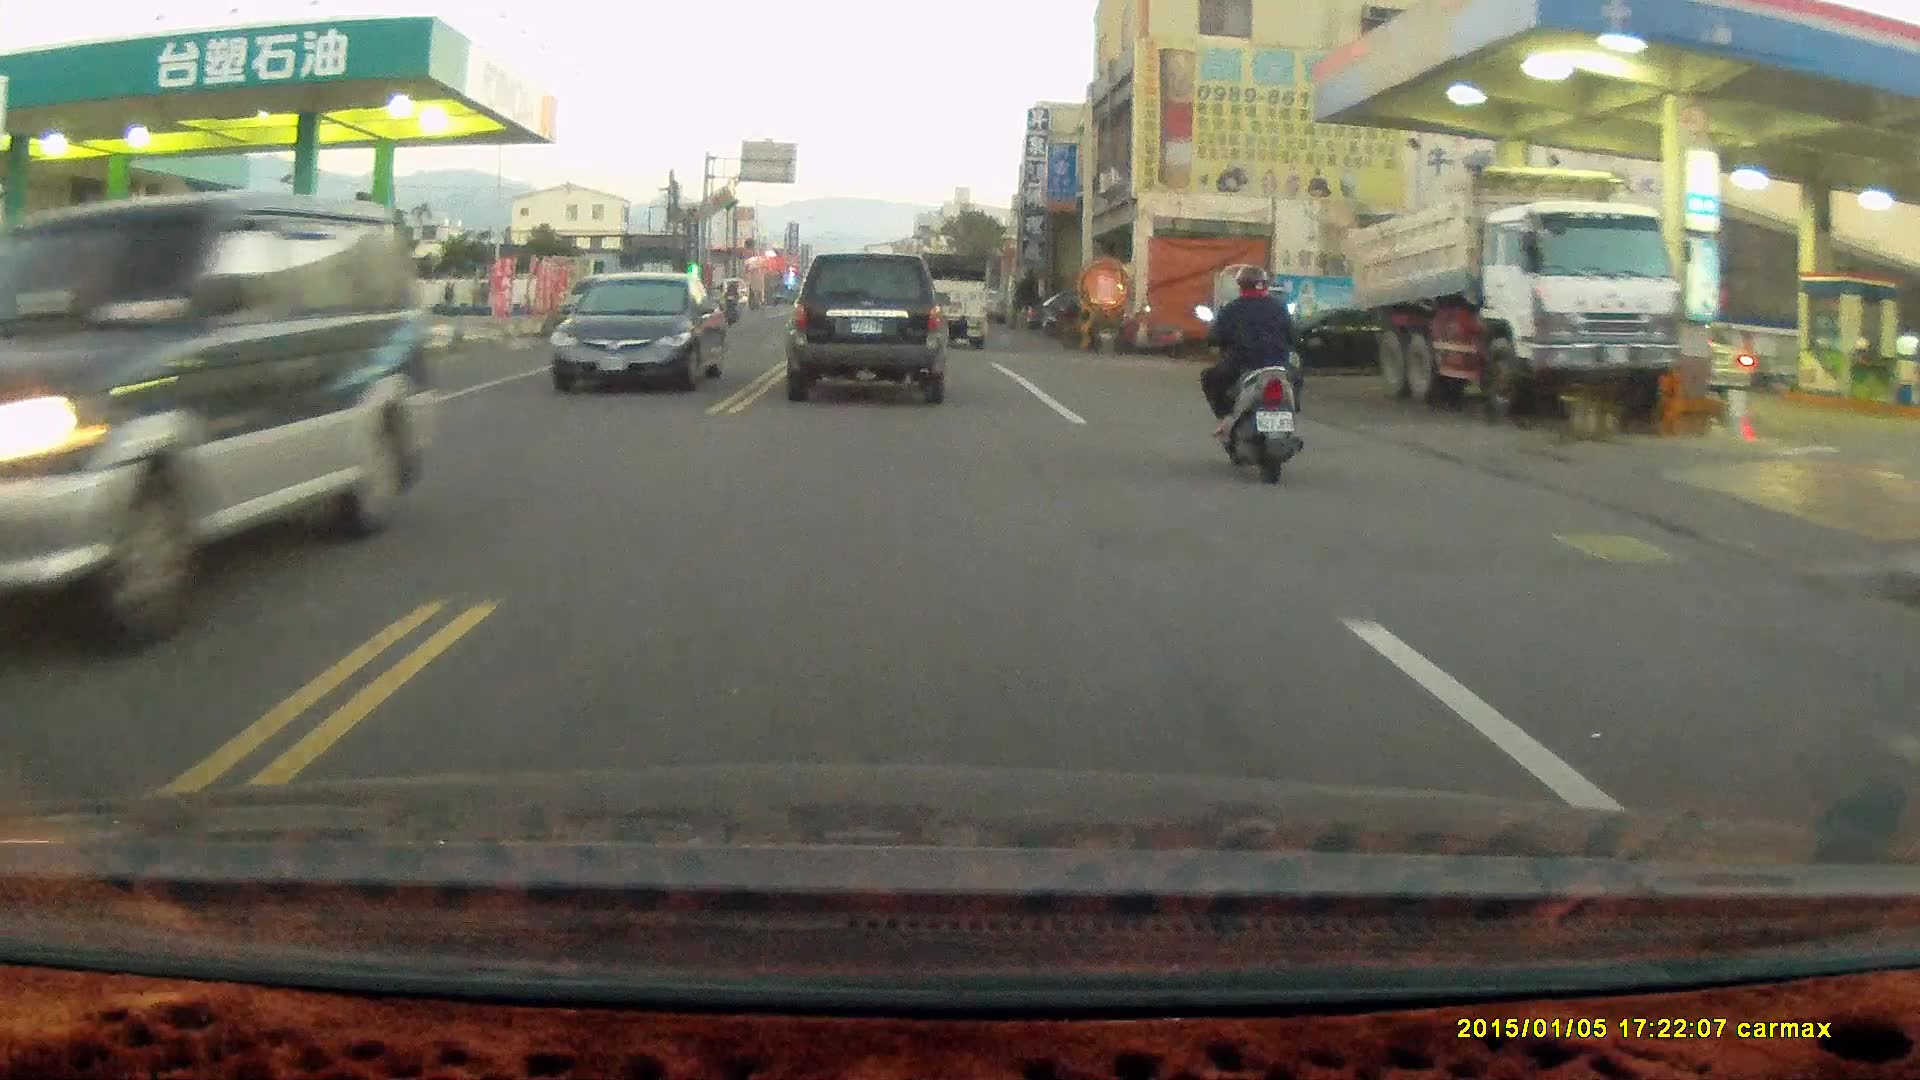rider: (1193, 263, 1305, 486), (718, 278, 741, 326)
vehicle: (1, 190, 444, 670), (1352, 164, 1680, 409), (792, 249, 953, 401), (553, 269, 728, 396), (901, 252, 993, 350)
